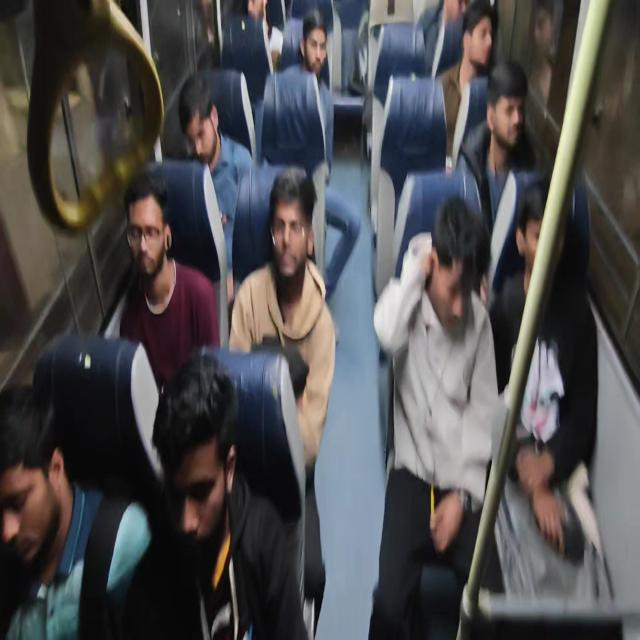person: (153, 368, 240, 571), (0, 373, 65, 588), (422, 193, 488, 332), (517, 169, 577, 305), (121, 177, 170, 293), (271, 168, 313, 293), (488, 63, 538, 158), (176, 74, 223, 174), (464, 5, 495, 75), (299, 9, 327, 72), (235, 1, 280, 30), (439, 1, 467, 20)
